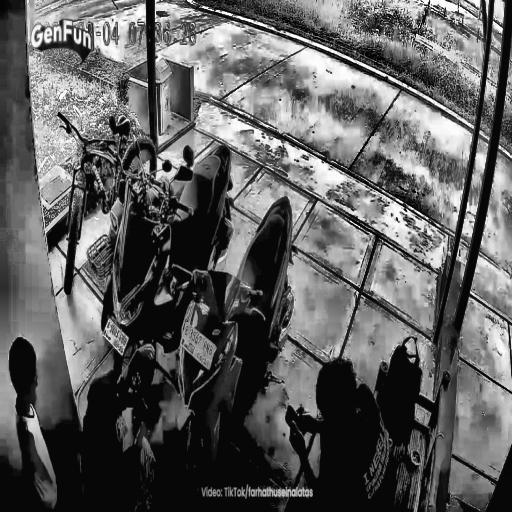aman: (156, 0, 472, 448), (452, 153, 512, 488), (52, 0, 146, 64)
